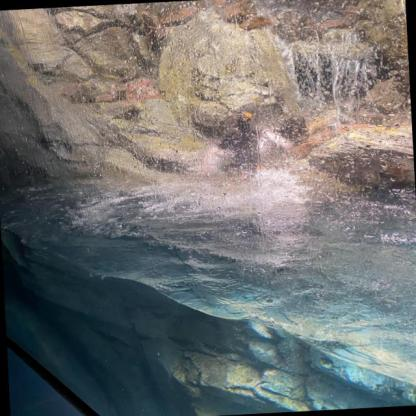puffin: (215, 108, 259, 164)
